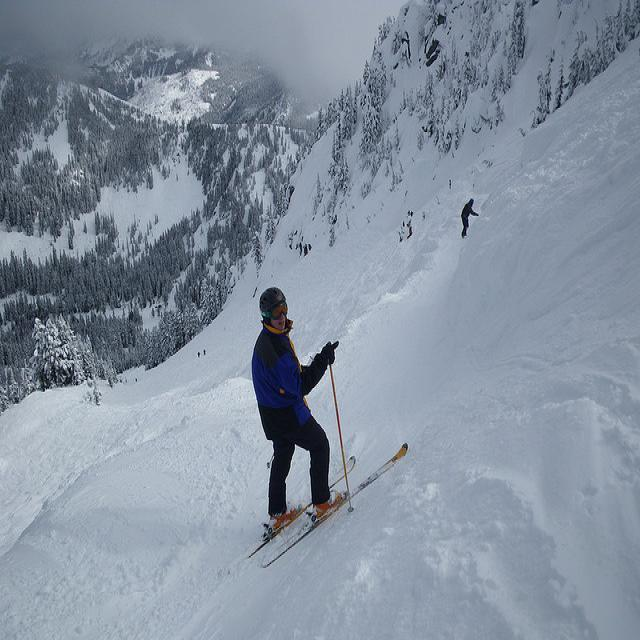non-dog: (251, 286, 343, 532), (460, 198, 480, 238)
